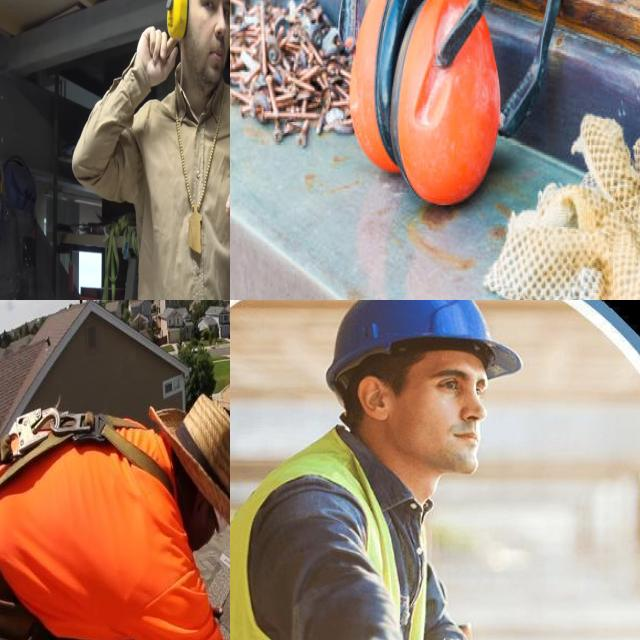Ear-protection: (324, 0, 582, 217), (164, 0, 230, 99)
Harness: (0, 409, 174, 495)
No_Ear-Protection: (357, 375, 392, 421)
No_Glasses: (426, 364, 496, 401)
face_nomask: (405, 351, 496, 483)
head_helmet: (323, 300, 523, 379)
person: (230, 300, 531, 640)
vest: (230, 433, 470, 640)
